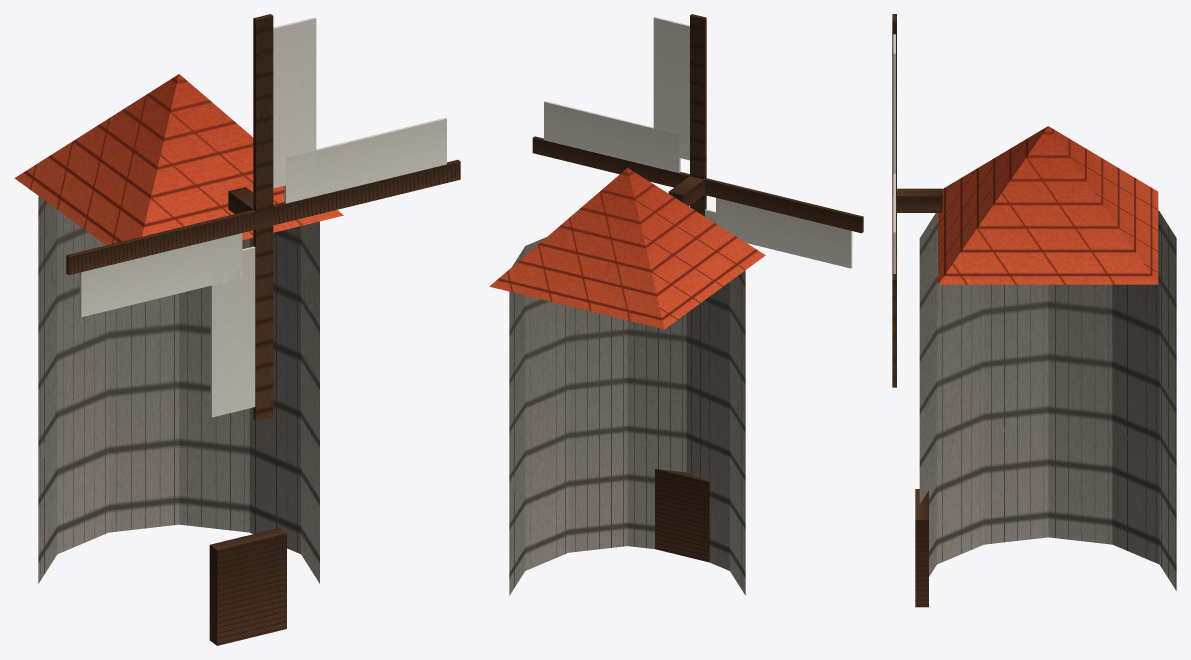
Rendered from village_windmill.gltf.
3 renders of one model, left to right at view 1: azimuth 30°, elevation 25°; view 2: azimuth 150°, elevation 25°; view 3: azimuth 270°, elevation 25°, orthographic. The views are drawn at different scales.
Visible parts, largest first — view 1: village_windmill; view 2: village_windmill; view 3: village_windmill.
Part boxes in pixels (x1,y1,x2,y2): village_windmill: [14, 14, 460, 645]; village_windmill: [489, 14, 863, 595]; village_windmill: [892, 14, 1176, 607].
Bounding box in the file's own units: 9 × 13.8 × 6.2.
1 material, 1 textured.
